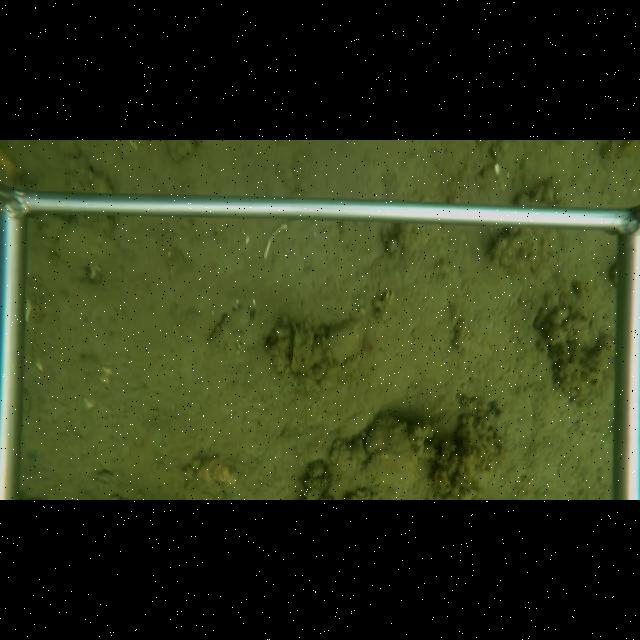Oyster-Closed: (209, 298, 251, 349), (290, 324, 303, 375)
